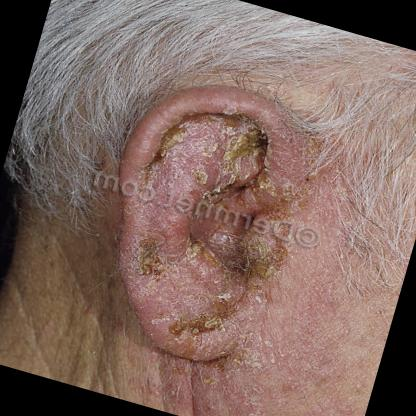Eczema: (238, 198, 364, 325), (250, 104, 380, 218), (160, 264, 278, 368), (165, 82, 266, 190), (96, 148, 200, 252), (93, 226, 195, 320)
